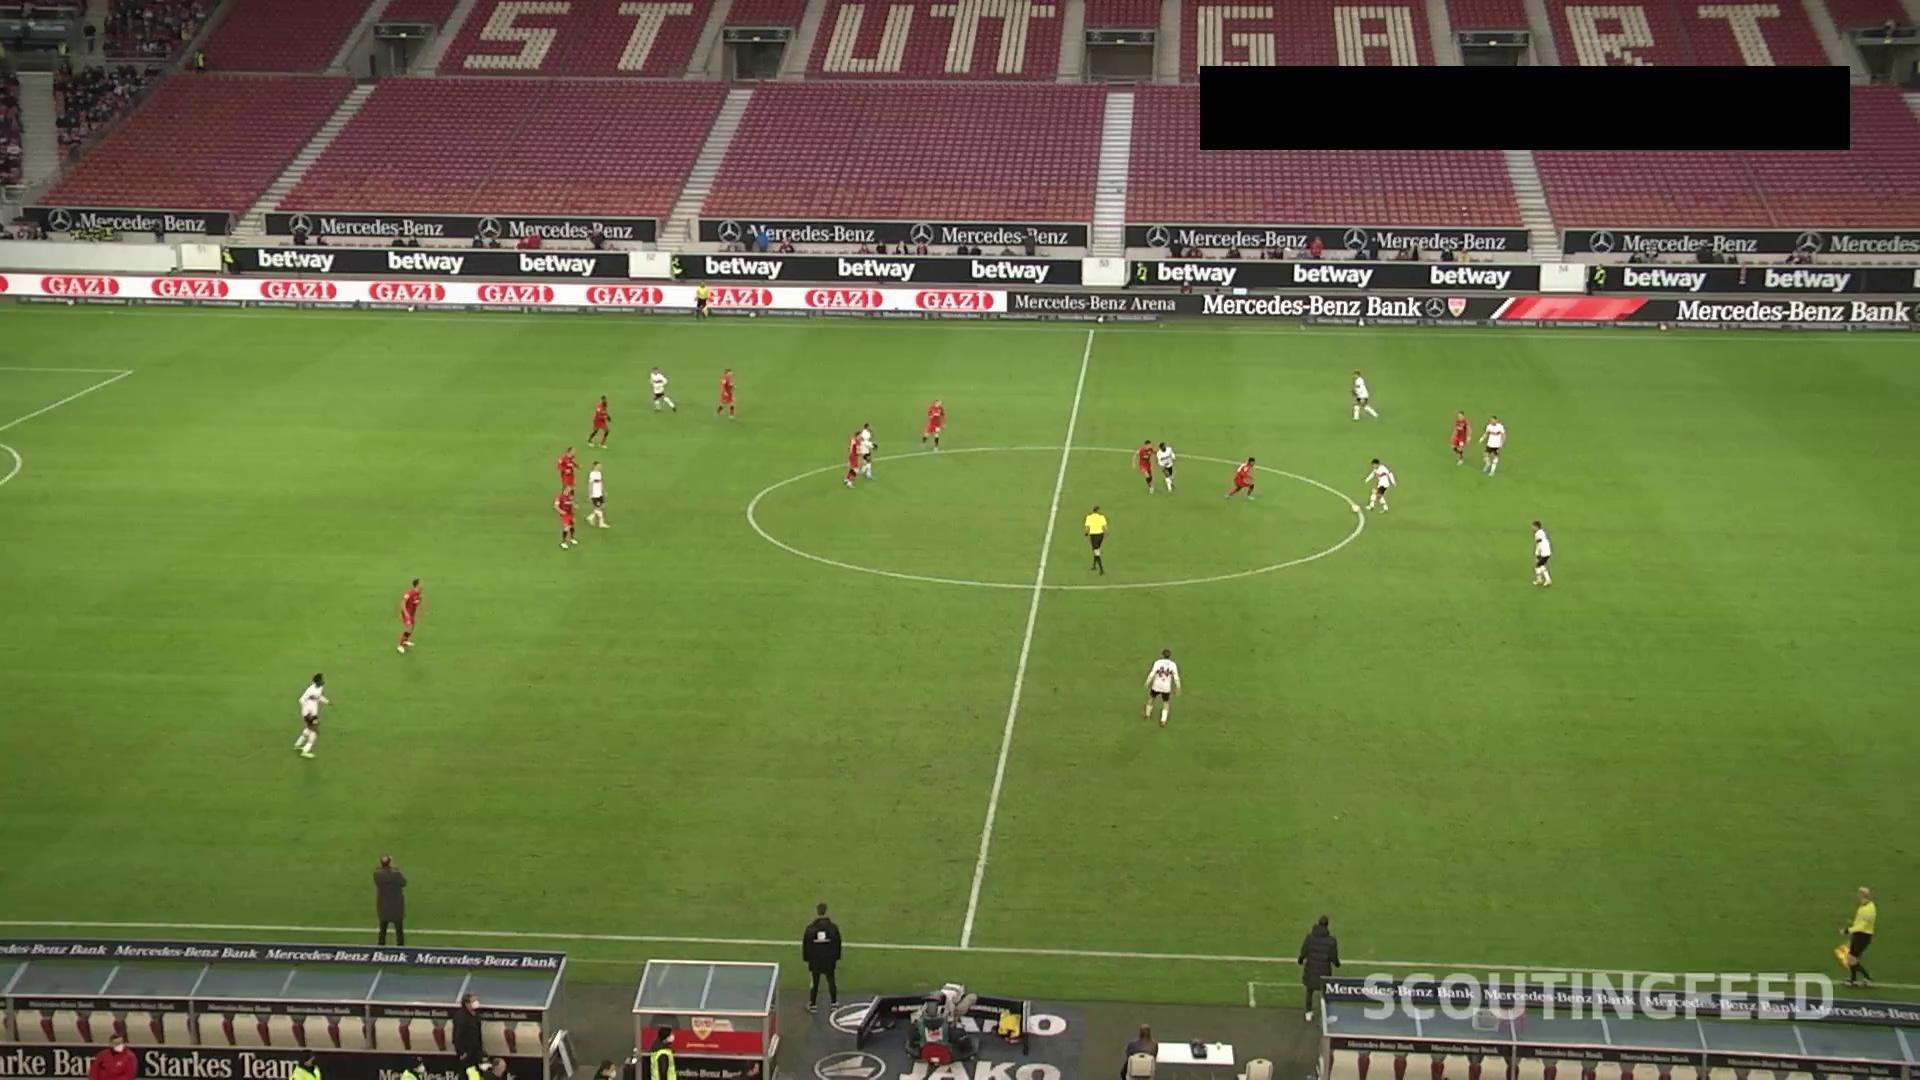Location-of-ball: (1341, 497, 1367, 526)
